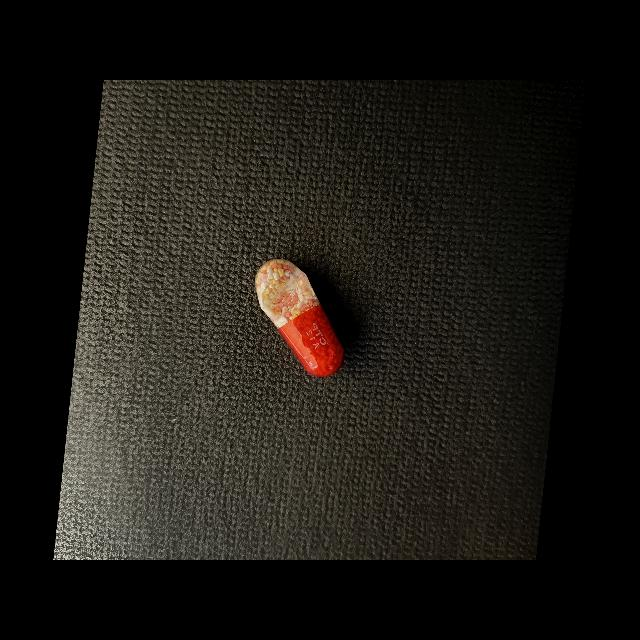Defective Capsule: (255, 259, 343, 377)
